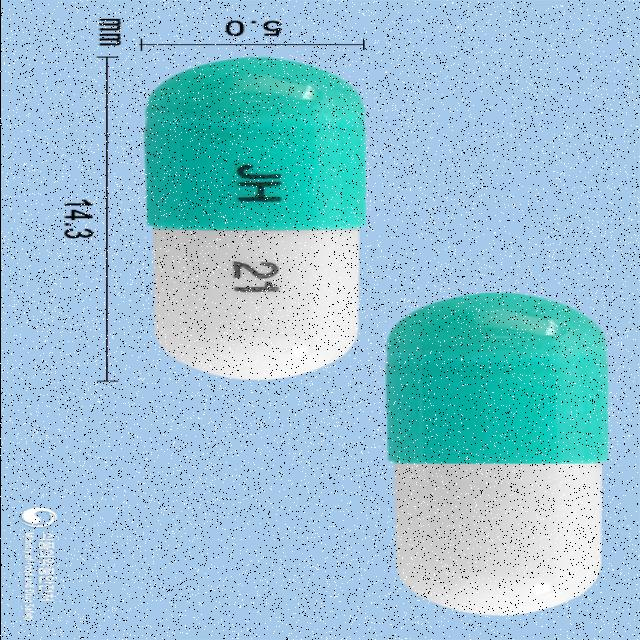Flunazole Cap: (146, 56, 366, 382)
